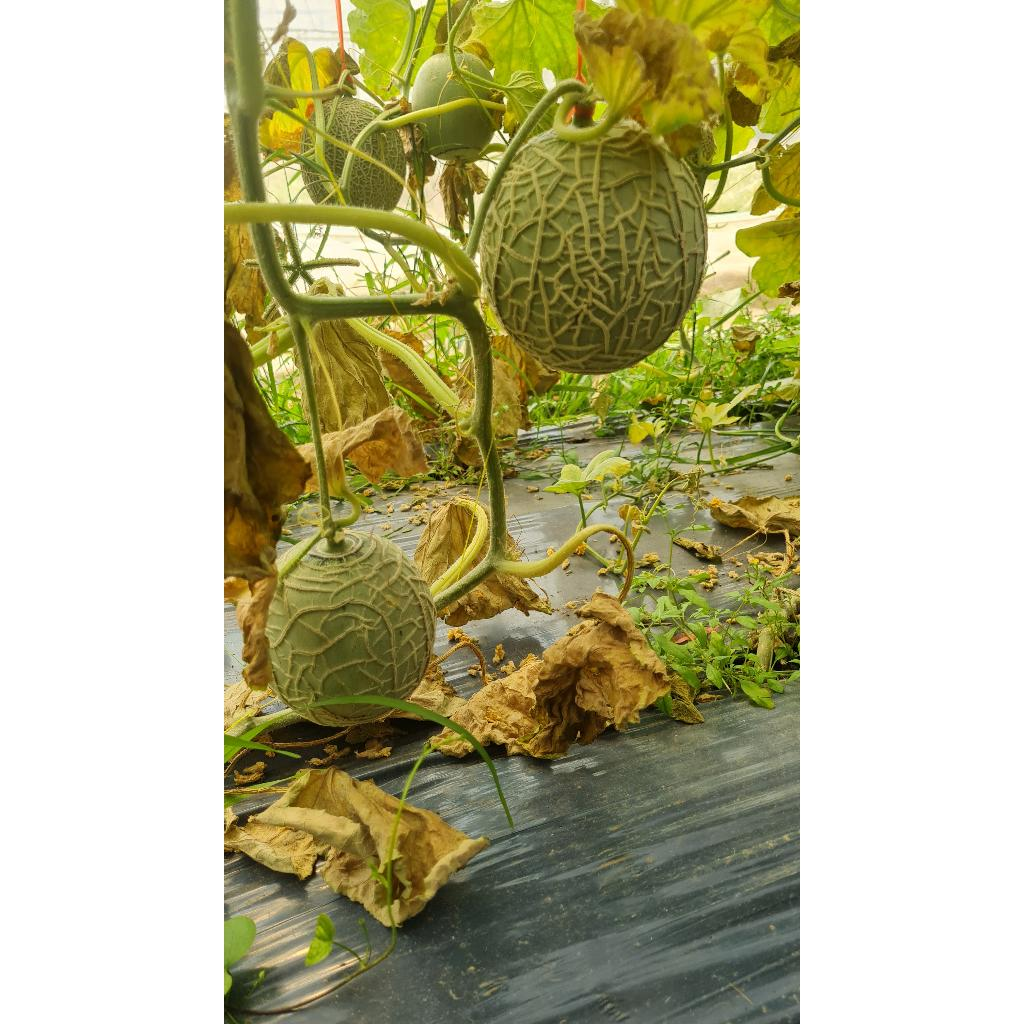melon: (480, 120, 708, 374), (266, 532, 436, 710), (304, 704, 384, 726)
